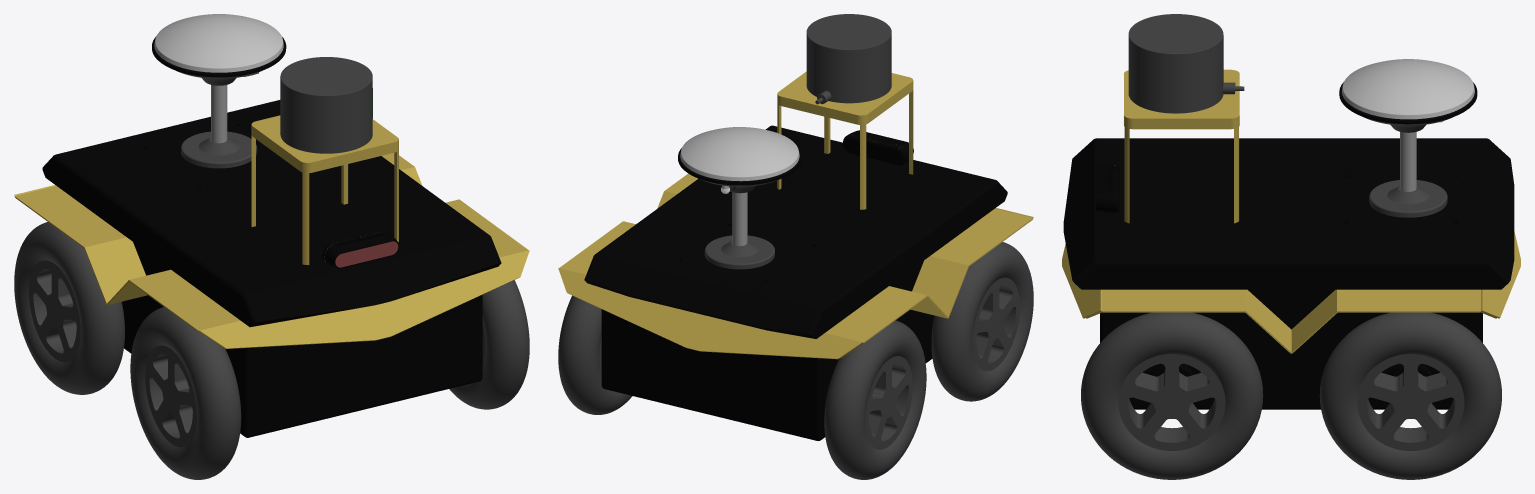
File: jackal.gltf
3 views of the same model, side by side, from view 1: azimuth 30°, elevation 25°; view 2: azimuth 150°, elevation 25°; view 3: azimuth 270°, elevation 25° (orthographic). The views are drawn at different scales.
Visible parts, largest first — view 1: yellow medium gloss plastic, color-2, color, color_clonedChild, color-17, color-13, color-3, color-3_clonedChild, matte aluminum, color-15, translucent plastic, color-12; view 2: yellow medium gloss plastic, color-2, color, color_clonedChild, color-17, color-13, color-3, color-3_clonedChild, matte aluminum, color-15, color-12; view 3: yellow medium gloss plastic, color-2, color-17, color, color_clonedChild, color-13, color-3, color-3_clonedChild, matte aluminum, color-15, color-12.
Part boxes in pixels (bbox=[...]): yellow medium gloss plastic: bbox=[42, 100, 501, 437]; color-2: bbox=[14, 70, 529, 479]; color: bbox=[14, 153, 529, 348]; color_clonedChild: bbox=[14, 153, 529, 348]; color-17: bbox=[181, 57, 372, 168]; color-13: bbox=[154, 14, 283, 72]; color-3: bbox=[251, 115, 398, 264]; color-3_clonedChild: bbox=[251, 115, 398, 264]; matte aluminum: bbox=[322, 231, 399, 268]; color-15: bbox=[211, 85, 227, 143]; translucent plastic: bbox=[335, 241, 398, 267]; color-12: bbox=[152, 37, 286, 77]; yellow medium gloss plastic: bbox=[584, 125, 1007, 440]; color-2: bbox=[558, 179, 1033, 479]; color: bbox=[558, 173, 1033, 359]; color_clonedChild: bbox=[558, 174, 1033, 358]; color-17: bbox=[704, 14, 891, 269]; color-13: bbox=[680, 127, 799, 181]; color-3: bbox=[777, 71, 913, 209]; color-3_clonedChild: bbox=[777, 72, 912, 209]; matte aluminum: bbox=[843, 130, 913, 165]; color-15: bbox=[732, 192, 747, 246]; color-12: bbox=[678, 148, 801, 185]; yellow medium gloss plastic: bbox=[1063, 138, 1514, 409]; color-2: bbox=[1081, 117, 1501, 479]; color-17: bbox=[1128, 14, 1447, 217]; color: bbox=[1062, 231, 1520, 353]; color_clonedChild: bbox=[1062, 233, 1520, 353]; color-13: bbox=[1341, 59, 1474, 119]; color-3: bbox=[1114, 69, 1239, 223]; color-3_clonedChild: bbox=[1124, 70, 1239, 222]; matte aluminum: bbox=[1096, 165, 1118, 212]; color-15: bbox=[1400, 132, 1416, 191]; color-12: bbox=[1339, 82, 1477, 124].
Bounding box in the file's own units: 0.4301 × 0.4486 × 0.5032.
